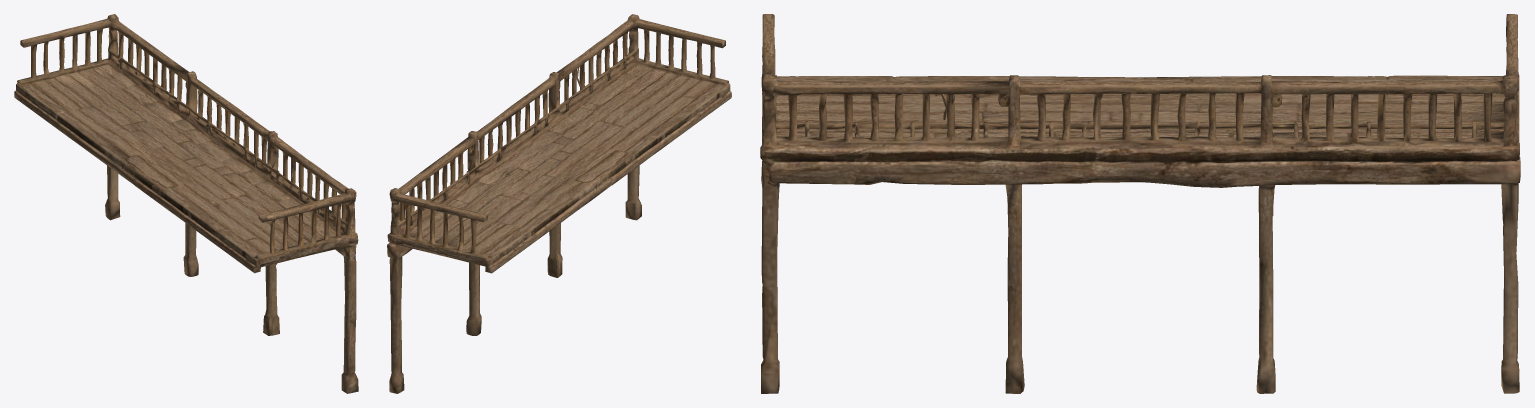
The model's file is Saloon_Balcony_Railing.glb.
The picture shows the model from 3 angles, left to right: view 1: azimuth 30°, elevation 25°; view 2: azimuth 150°, elevation 25°; view 3: azimuth 270°, elevation 25°; orthographic projection. The views are drawn at different scales.
Visible parts, largest first — view 1: tripo_node_3d82925b-fdf4-44dd-85c7-fd9386ef4b69; view 2: tripo_node_3d82925b-fdf4-44dd-85c7-fd9386ef4b69; view 3: tripo_node_3d82925b-fdf4-44dd-85c7-fd9386ef4b69.
Boxes of the visible parts, x1,y1,x2,y2 form: tripo_node_3d82925b-fdf4-44dd-85c7-fd9386ef4b69: (14,14,358,393); tripo_node_3d82925b-fdf4-44dd-85c7-fd9386ef4b69: (387,14,731,393); tripo_node_3d82925b-fdf4-44dd-85c7-fd9386ef4b69: (760,14,1520,393).
Size of the model in its own units: 0.2412 by 0.4458 by 0.9789.
Materials: 1 (1 with a texture image).
